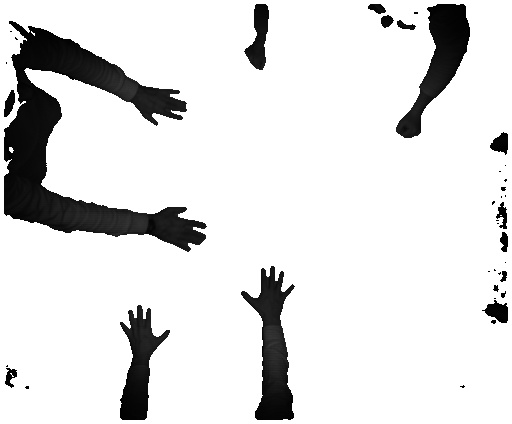fist: (392, 112, 423, 143), (240, 42, 271, 71)
hand: (240, 264, 295, 326), (120, 304, 175, 360), (155, 203, 207, 255), (134, 87, 191, 127)
